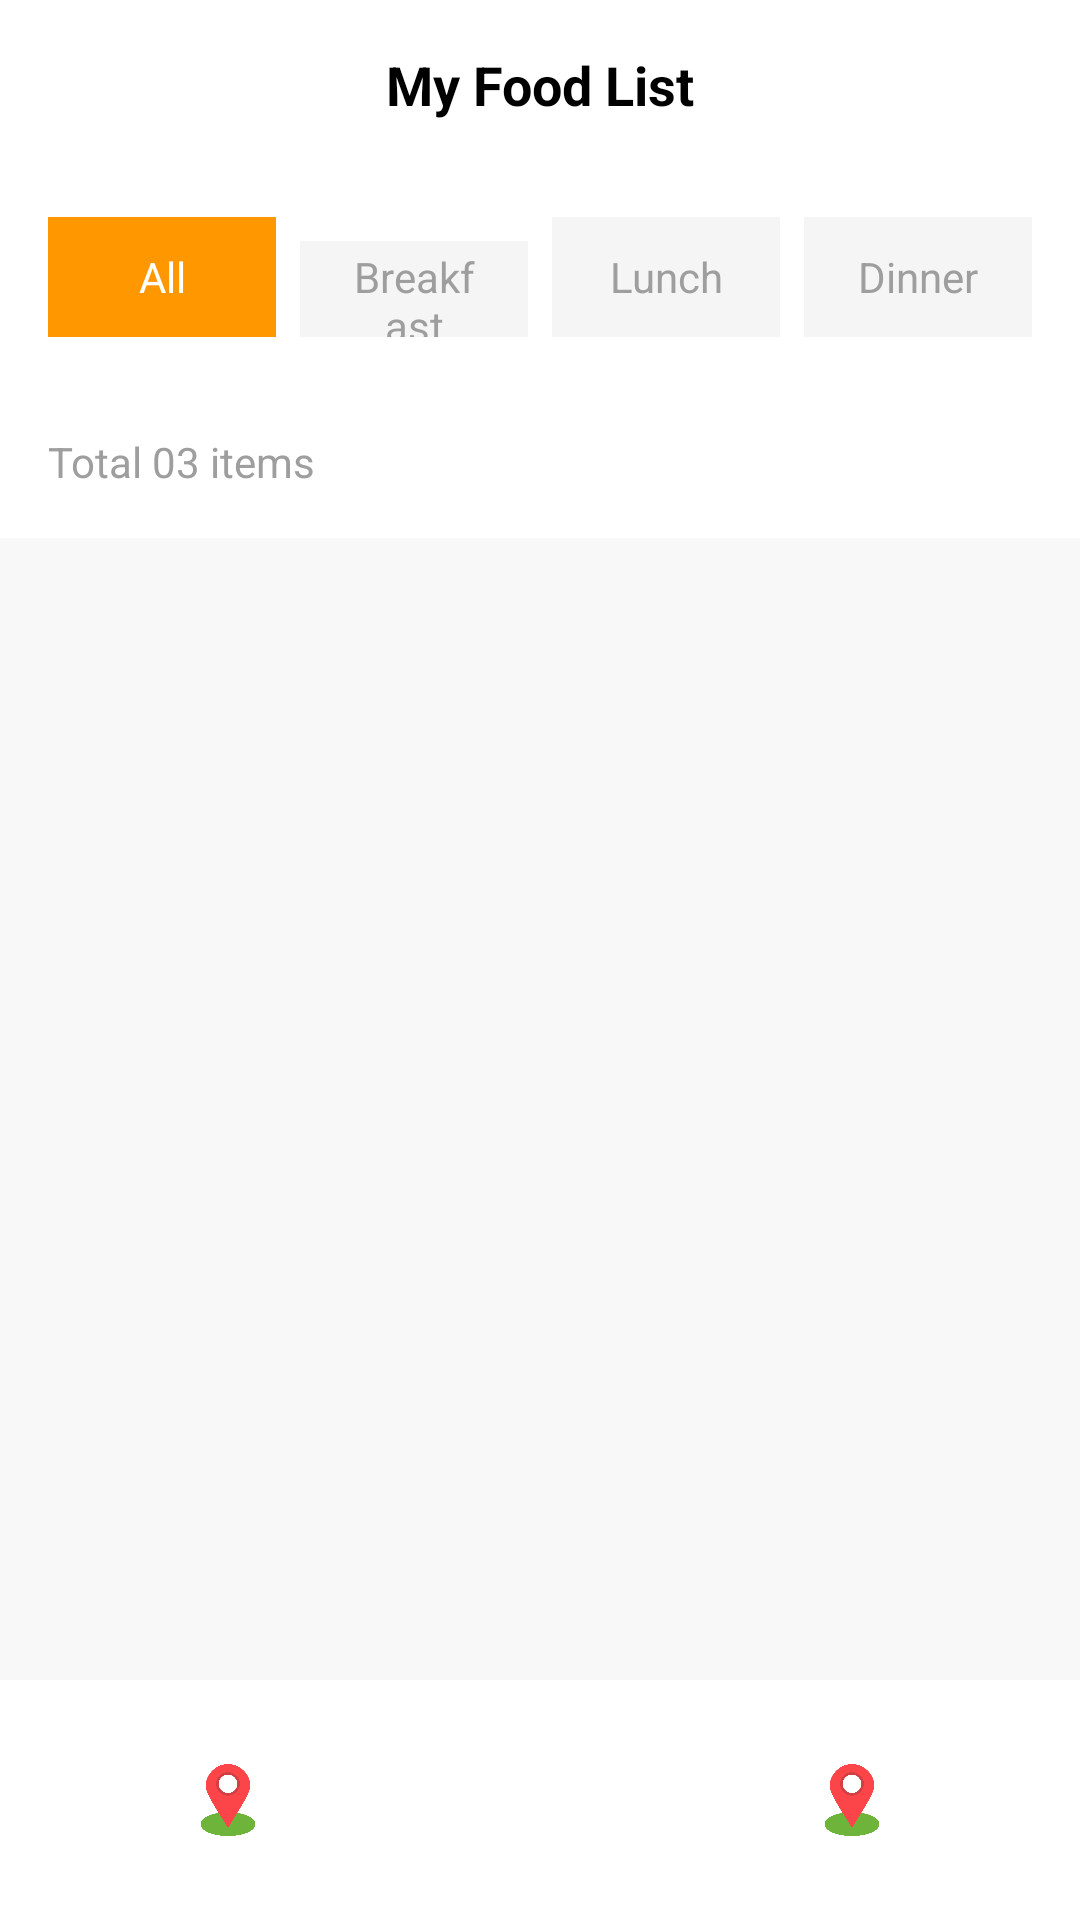

Screen size 1080x1920. Icon name, then its center in pixels as (x,y):
map: (228,1800), (852,1800)
